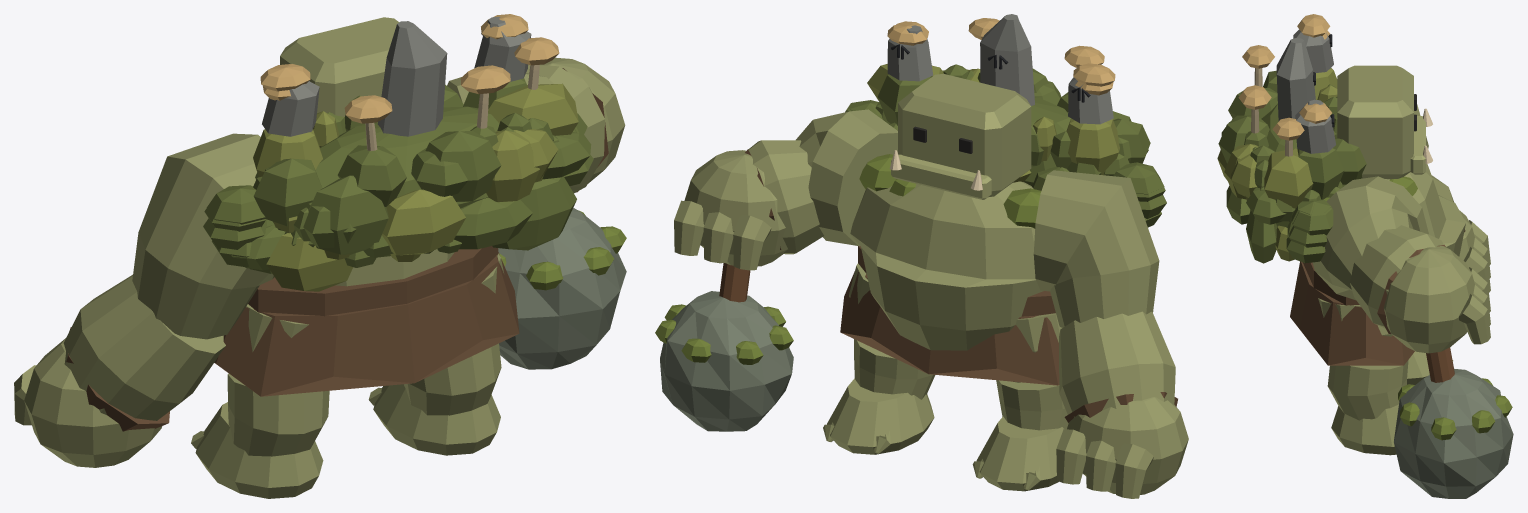
Rendered from host_06.glb.
The picture shows the model from 3 angles, left to right: view 1: azimuth 30°, elevation 25°; view 2: azimuth 150°, elevation 25°; view 3: azimuth 270°, elevation 25°; orthographic projection. The views are drawn at different scales.
Parts seen in each view (by area): view 1: Leather ragged skirt, V6 source anatomical upper arm L, V6 source anatomical forearm L, V6 mossback source round irregular grounded boulder club, V6 source anatomical palm L, Observed face, Continuous leather waist belt, V6 detail large faceted standing rune stone, V6 source anatomical shin L, V6 source anatomical bare foot L, V6 source anatomical bare foot R, V6 detail actual source organic moss back hump (+34 smaller); view 2: V6 source anatomical thorax, V6 source anatomical upper arm L, V6 mossback source round irregular grounded boulder club, Observed face, V6 source anatomical forearm L, Leather ragged skirt, V6 source anatomical upper arm R, V6 source anatomical palm L, V6 source anatomical palm R, V6 source anatomical bare foot R, V6 source anatomical forearm R, V6 source anatomical bare foot L (+29 smaller); view 3: V6 mossback source round irregular grounded boulder club, Observed face, V6 source anatomical palm R, V6 source anatomical upper arm R, Leather ragged skirt, V6 source anatomical forearm R, V6 source anatomical shin R, V6 detail large faceted standing rune stone, V6 source anatomical thorax, V6 source anatomical bare foot R, V6 detail irregular overlapping moss canopy.024, V6 detail irregular overlapping moss canopy.008 (+34 smaller).
Part boxes in pixels (bbox=[...]): Leather ragged skirt: bbox=[214, 252, 519, 396]; V6 source anatomical upper arm L: bbox=[132, 133, 274, 339]; V6 source anatomical forearm L: bbox=[63, 274, 225, 420]; V6 mossback source round irregular grounded boulder club: bbox=[498, 208, 626, 369]; V6 source anatomical palm L: bbox=[24, 338, 162, 467]; Observed face: bbox=[280, 17, 399, 116]; Continuous leather waist belt: bbox=[248, 246, 498, 316]; V6 detail large faceted standing rune stone: bbox=[377, 21, 447, 136]; V6 source anatomical shin L: bbox=[227, 373, 329, 456]; V6 source anatomical bare foot L: bbox=[195, 402, 323, 498]; V6 source anatomical bare foot R: bbox=[373, 384, 500, 455]; V6 detail actual source organic moss back hump: bbox=[273, 106, 499, 257]; V6 source anatomical thorax: bbox=[850, 181, 1043, 350]; V6 source anatomical upper arm L: bbox=[1033, 170, 1159, 327]; V6 mossback source round irregular grounded boulder club: bbox=[660, 291, 793, 431]; Observed face: bbox=[898, 73, 1031, 197]; V6 source anatomical forearm L: bbox=[1059, 311, 1175, 417]; Leather ragged skirt: bbox=[840, 271, 1059, 385]; V6 source anatomical upper arm R: bbox=[796, 109, 897, 245]; V6 source anatomical palm L: bbox=[1067, 397, 1188, 494]; V6 source anatomical palm R: bbox=[684, 150, 787, 266]; V6 source anatomical bare foot R: bbox=[827, 378, 934, 454]; V6 source anatomical forearm R: bbox=[748, 140, 823, 254]; V6 source anatomical bare foot L: bbox=[976, 416, 1064, 491]; V6 mossback source round irregular grounded boulder club: bbox=[1394, 368, 1513, 498]; Observed face: bbox=[1337, 65, 1413, 179]; V6 source anatomical palm R: bbox=[1383, 244, 1474, 353]; V6 source anatomical upper arm R: bbox=[1312, 176, 1428, 300]; Leather ragged skirt: bbox=[1290, 261, 1414, 365]; V6 source anatomical forearm R: bbox=[1350, 225, 1443, 328]; V6 source anatomical shin R: bbox=[1327, 360, 1408, 420]; V6 detail large faceted standing rune stone: bbox=[1276, 38, 1315, 121]; V6 source anatomical thorax: bbox=[1385, 164, 1465, 256]; V6 source anatomical bare foot R: bbox=[1331, 404, 1398, 455]; V6 detail irregular overlapping moss canopy.024: bbox=[1264, 148, 1313, 208]; V6 detail irregular overlapping moss canopy.008: bbox=[1297, 148, 1344, 199].
Bounding box in the file's own units: 1.97 × 1.47 × 1.08.
